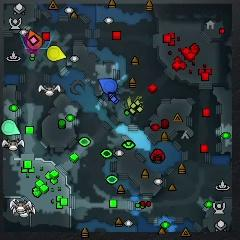p1: (98, 78, 118, 94)
p2: (1, 119, 21, 136)
p3: (24, 34, 29, 51)
p4: (46, 45, 66, 61)
p5: (27, 29, 43, 48)
x2: (127, 96, 143, 110)
